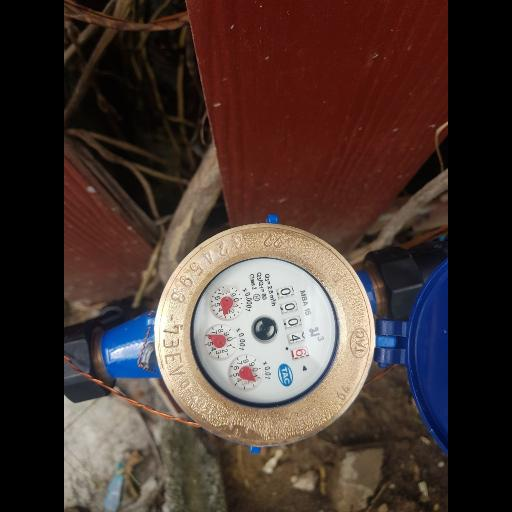0: (275, 285, 295, 299), (279, 300, 299, 314), (283, 315, 303, 329)
4: (286, 330, 306, 345)
6: (290, 346, 310, 361)
border_water_meter_number: (273, 283, 314, 364)
